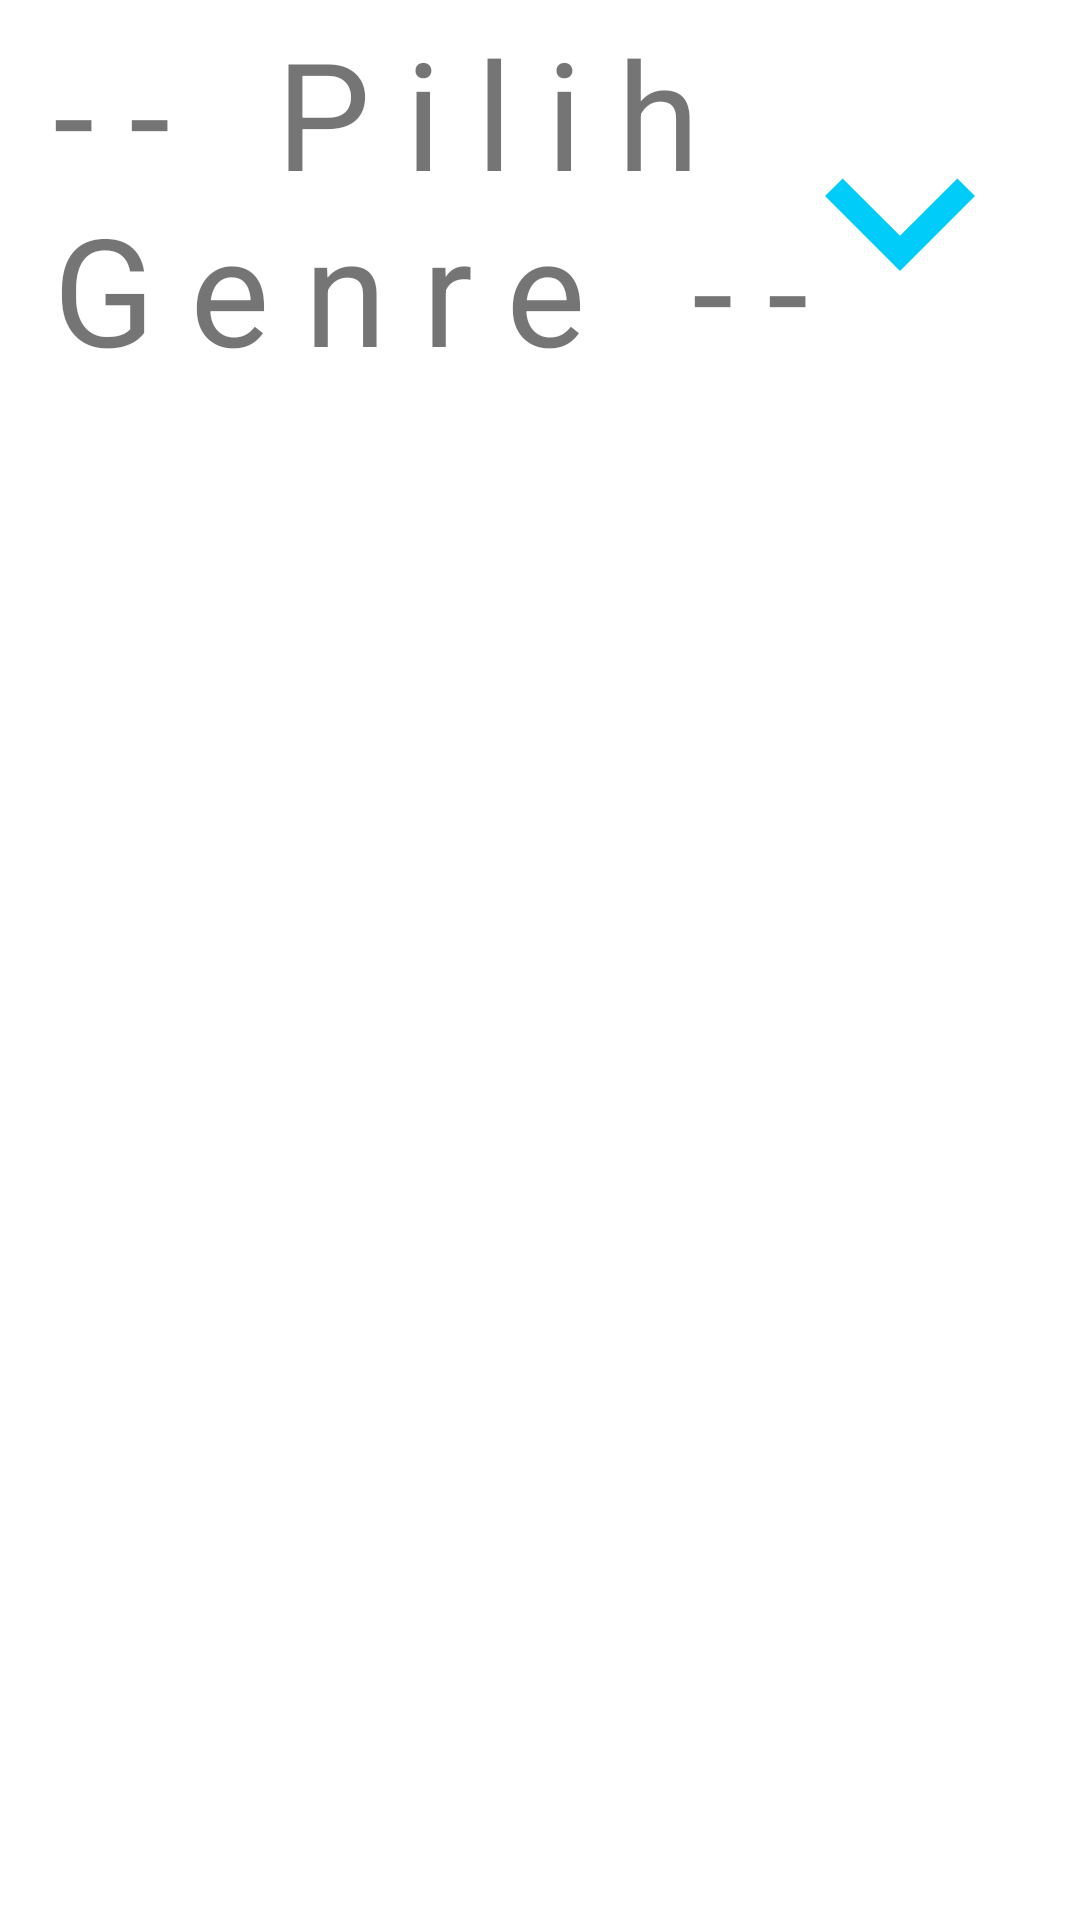

Screen size 1080 x 1920. Icon name, then its box in pixels as detection(x1, y1, x2, y2):
chevron down: detection(770, 178, 975, 307)
